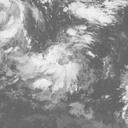cyclone: (23, 43, 83, 92)
